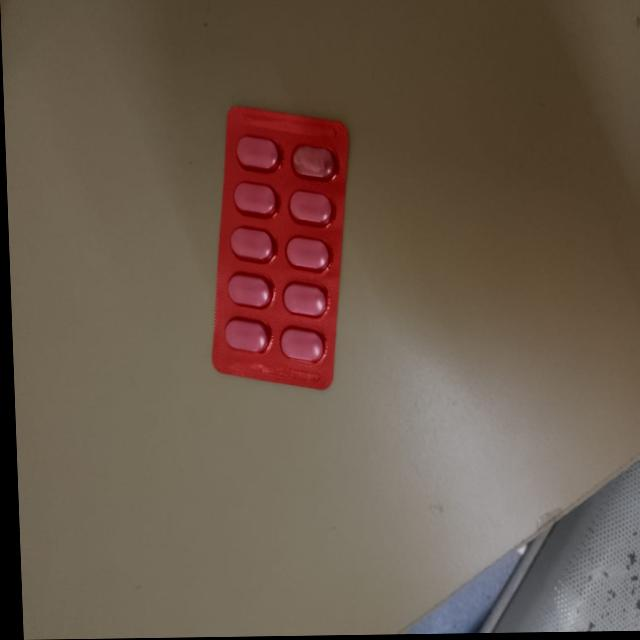medicine: (187, 105, 373, 394)
